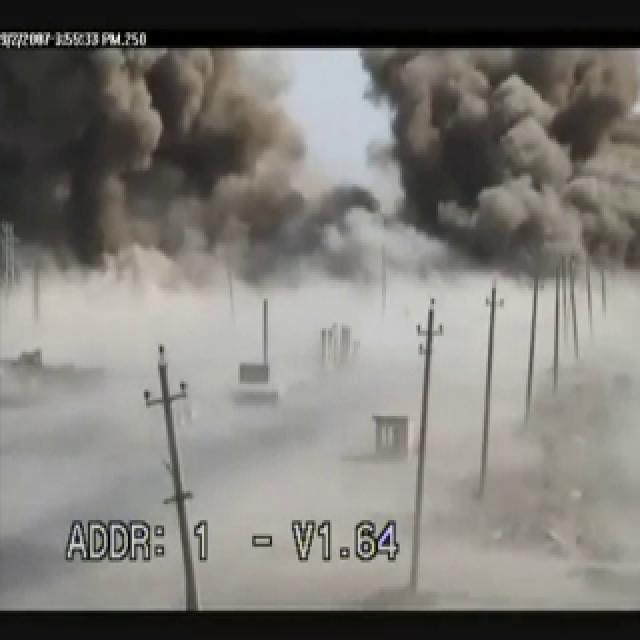explosion: (43, 7, 573, 455)
